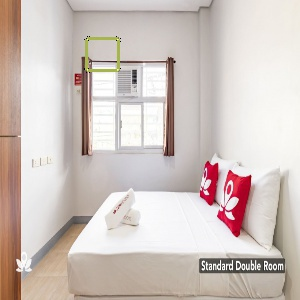square: (82, 34, 124, 73)
